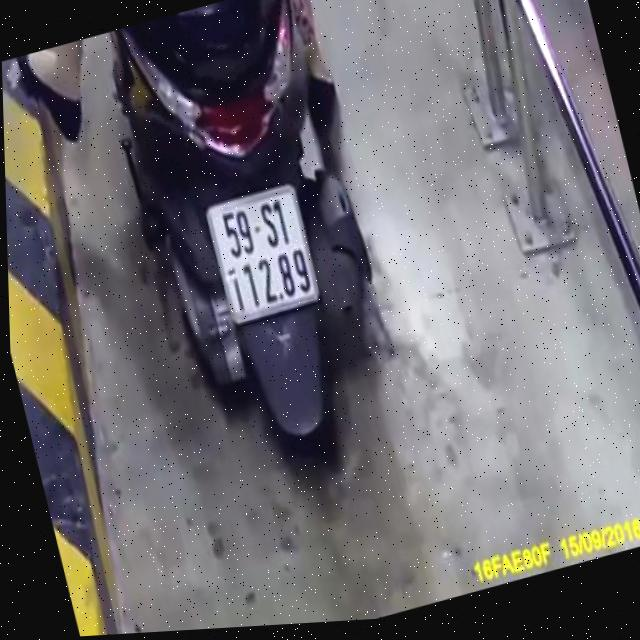motorcycle: (79, 0, 419, 507)
plate: (198, 178, 327, 327)
